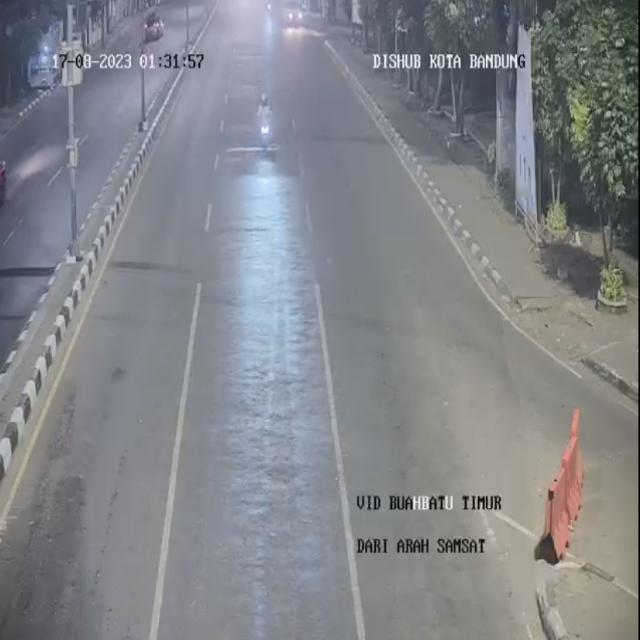motorcycle: (256, 89, 275, 169)
